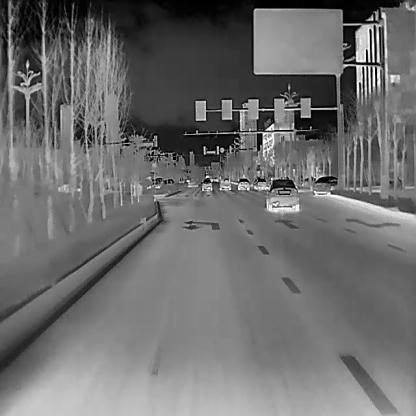car: (265, 179, 299, 210), (311, 174, 337, 195), (254, 177, 269, 190), (236, 177, 250, 190), (218, 176, 230, 190), (201, 178, 212, 190)
